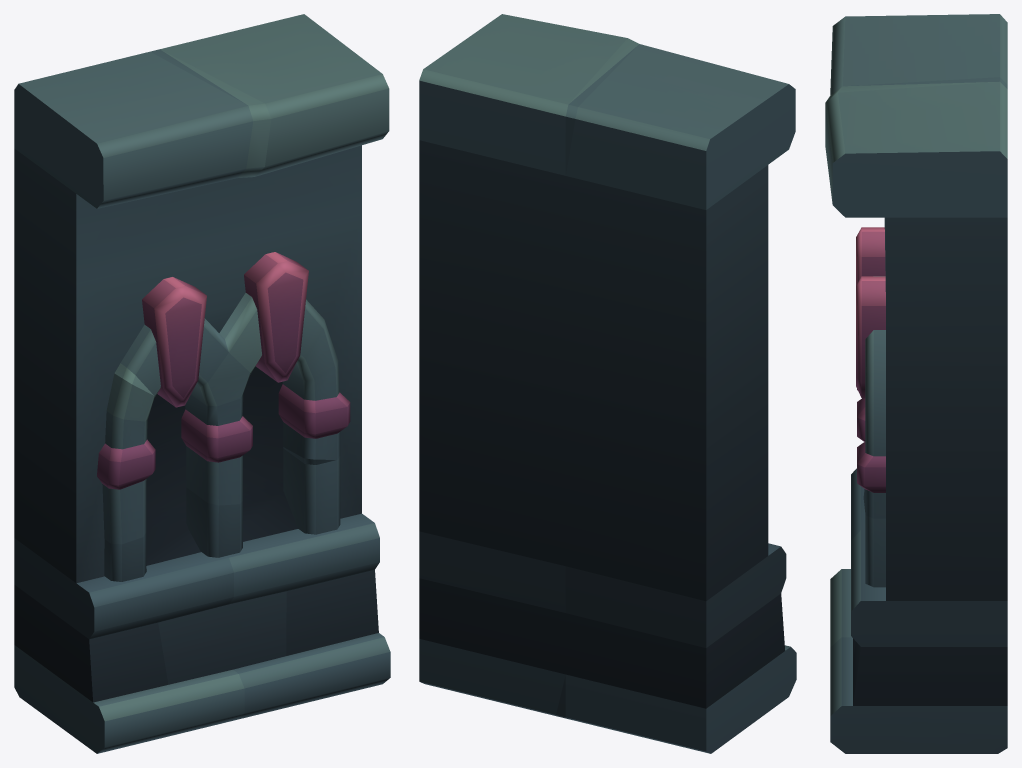
Rendered from wall_element_tileable_deco1_2meters.fbx.
3 views of the same model, side by side, from view 1: azimuth 30°, elevation 25°; view 2: azimuth 150°, elevation 25°; view 3: azimuth 270°, elevation 25° (orthographic). The views are drawn at different scales.
Visible parts, largest first — view 1: wall_element_tileable_deco1_2meters; view 2: wall_element_tileable_deco1_2meters; view 3: wall_element_tileable_deco1_2meters.
Part boxes in pixels (bbox=[...]): wall_element_tileable_deco1_2meters: bbox=[14, 14, 390, 753]; wall_element_tileable_deco1_2meters: bbox=[419, 14, 796, 753]; wall_element_tileable_deco1_2meters: bbox=[825, 14, 1007, 753].
Bounding box in the file's own units: 200 × 410 × 113.
